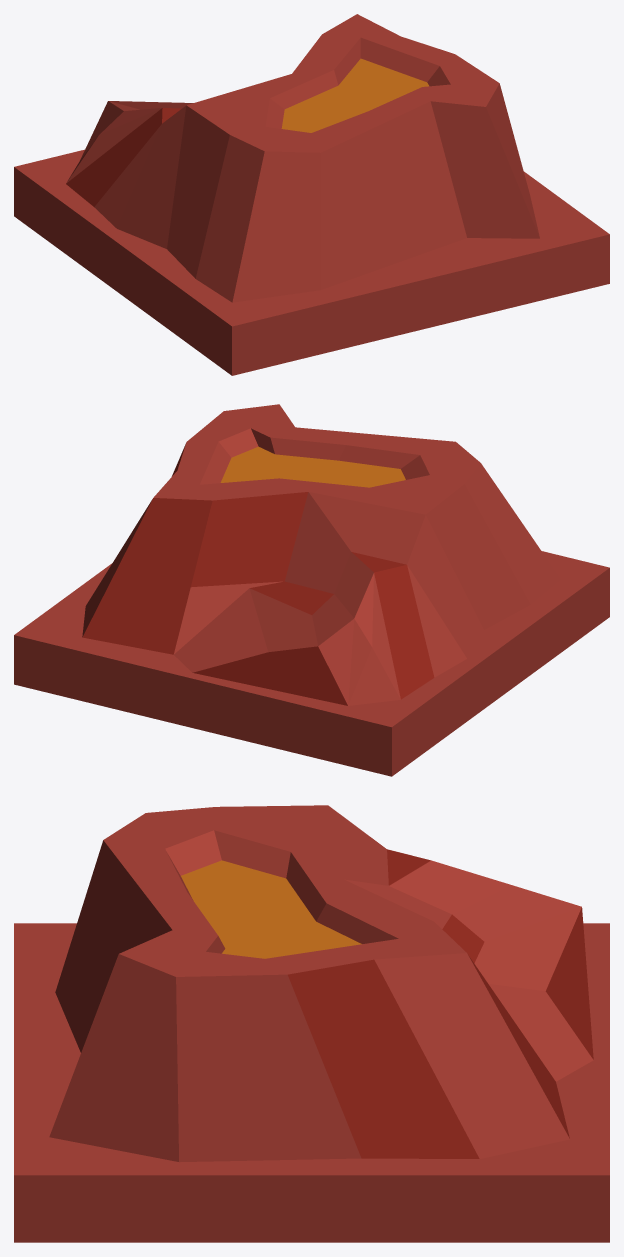
Rendered from Field_3_digged.fbx.
3 renders of one model, top to bottom at view 1: azimuth 30°, elevation 25°; view 2: azimuth 150°, elevation 25°; view 3: azimuth 270°, elevation 25°, orthographic. The views are drawn at different scales.
Visible parts, largest first — view 1: Plane.017; view 2: Plane.017; view 3: Plane.017.
Part boxes in pixels (x1,y1,x2,y2): Plane.017: (14, 14, 609, 375); Plane.017: (14, 404, 609, 776); Plane.017: (14, 805, 609, 1242).
Bounding box in the file's own units: 400 × 172 × 400.
